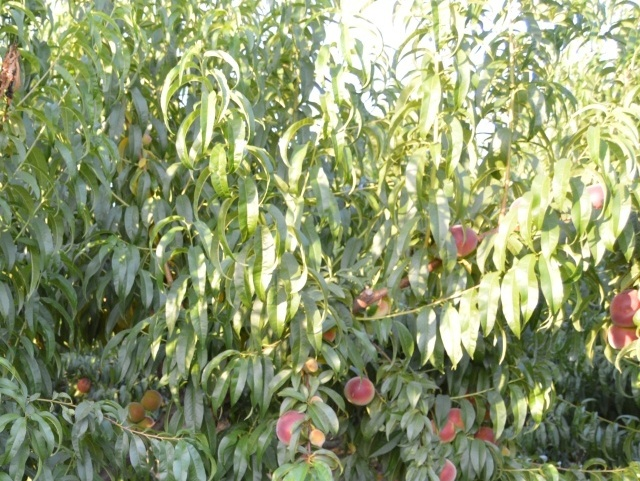peach: (271, 407, 314, 450), (606, 279, 639, 334), (442, 220, 483, 261), (601, 316, 639, 358), (341, 372, 378, 409), (425, 414, 457, 447), (444, 402, 473, 436), (584, 177, 606, 216), (139, 388, 166, 416), (297, 353, 324, 378), (474, 423, 502, 447), (433, 457, 461, 481), (304, 424, 328, 450), (125, 399, 151, 421), (75, 372, 95, 397), (136, 413, 159, 434)
